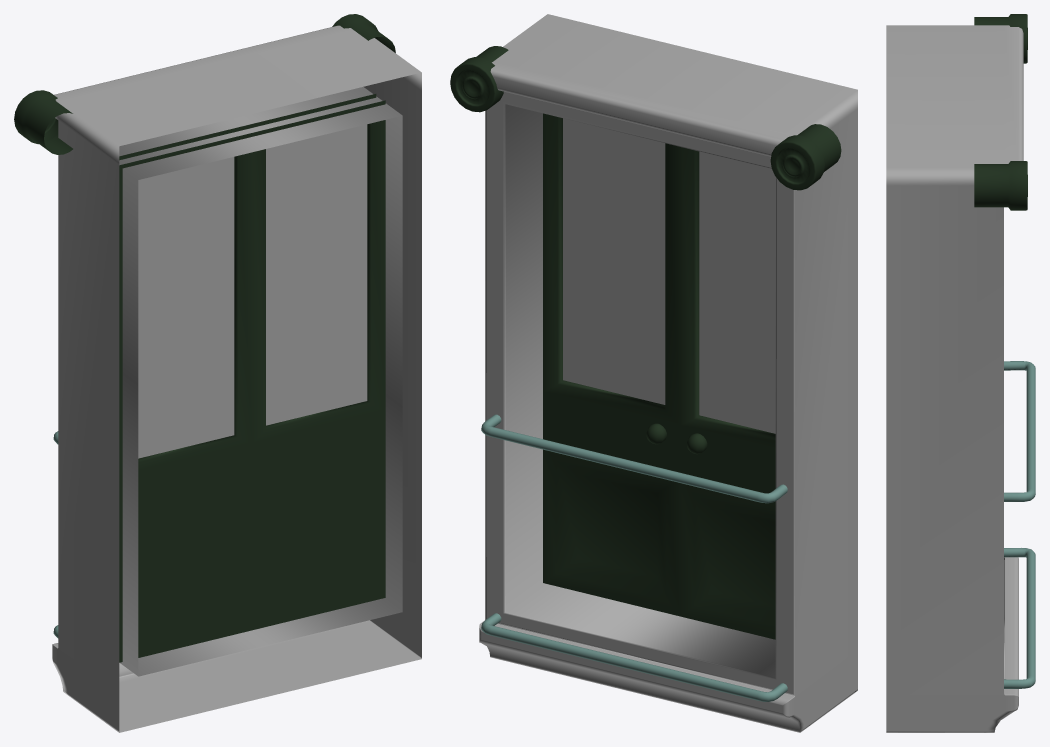
File: SM_BalconeFinestra_LP.fbx
3 views of the same model, side by side, from view 1: azimuth 30°, elevation 25°; view 2: azimuth 150°, elevation 25°; view 3: azimuth 270°, elevation 25° (orthographic). The views are drawn at different scales.
Parts seen in each view (by area): view 1: polySurface1215, polySurface1217, polySurface1214; view 2: polySurface1215, polySurface1217, polySurface1214, polySurface1219; view 3: polySurface1215, polySurface1219, polySurface1217.
Part boxes in pixels (<box>): polySurface1215: <box>52,25,421,732</box>; polySurface1217: <box>14,14,395,662</box>; polySurface1214: <box>138,124,367,458</box>; polySurface1215: <box>479,14,857,732</box>; polySurface1217: <box>450,46,841,639</box>; polySurface1214: <box>563,118,775,433</box>; polySurface1219: <box>481,414,787,701</box>; polySurface1215: <box>886,25,1023,732</box>; polySurface1219: <box>1004,361,1035,688</box>; polySurface1217: <box>974,14,1027,210</box>.
Bounding box in the file's own units: 172 × 272 × 64.59.
